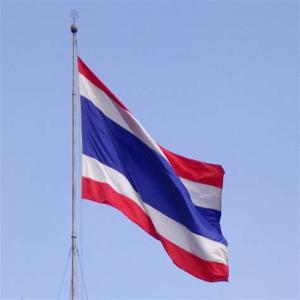Thailand: (77, 54, 230, 285)
